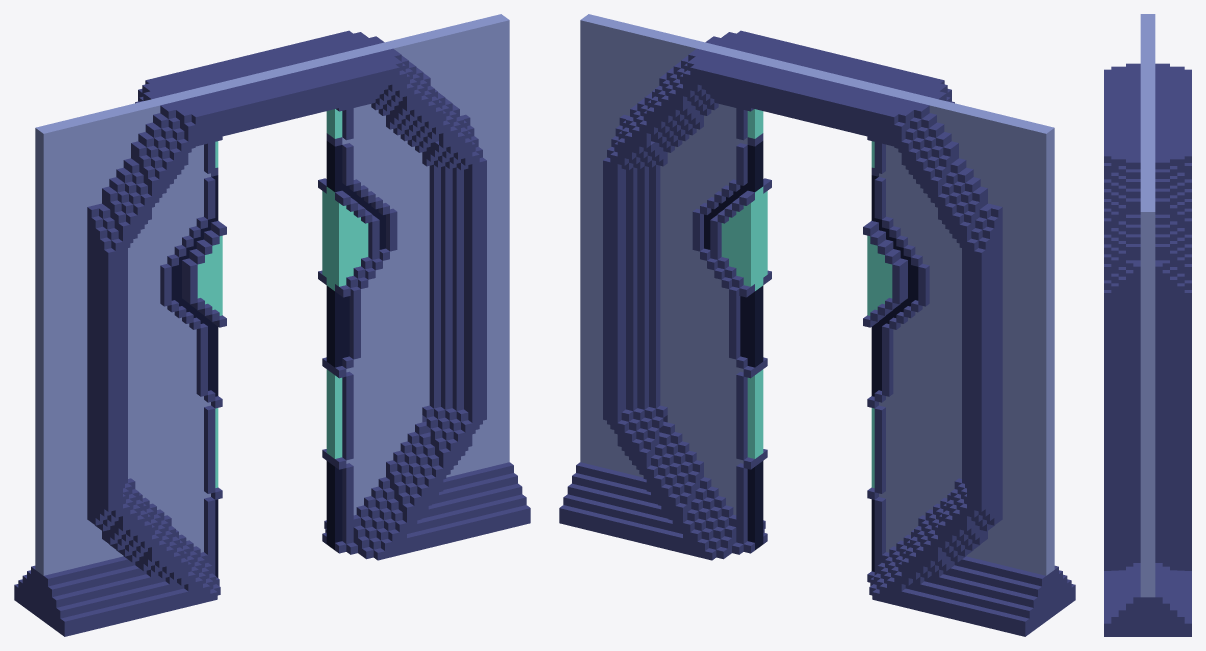
File: puerta abierta.obj
3 views of the same model, side by side, from view 1: azimuth 30°, elevation 25°; view 2: azimuth 150°, elevation 25°; view 3: azimuth 270°, elevation 25° (orthographic). The views are drawn at different scales.
Bounding box in the file's own units: 6.4 × 6.4 × 1.2.
Materials: 1 (1 with a texture image).
